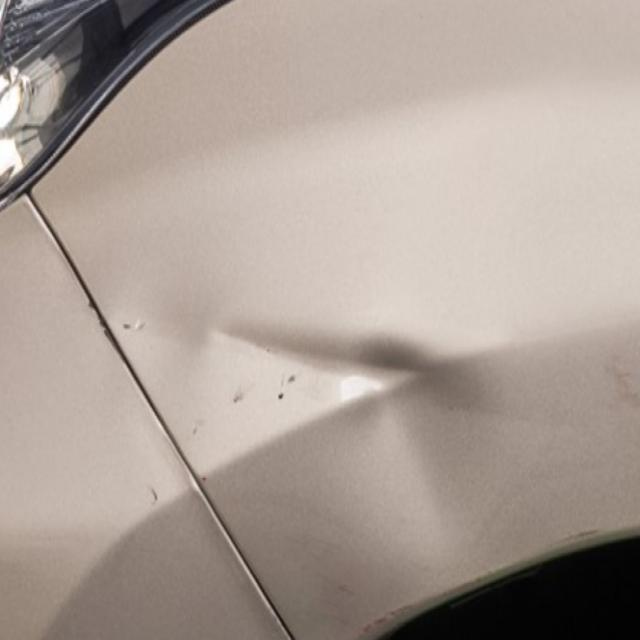dents: (153, 275, 540, 534)
